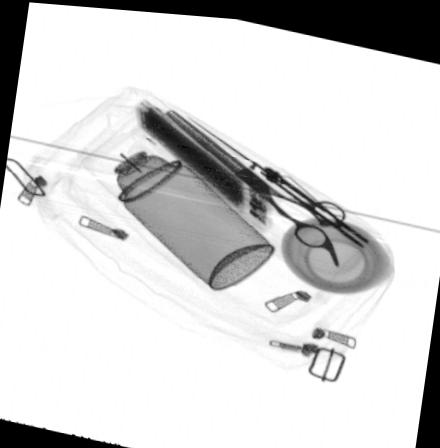Knife: (182, 108, 373, 245)
Powerbank: (135, 89, 270, 228)
Scissors: (160, 104, 348, 262)
Sprayer: (85, 123, 273, 285)
